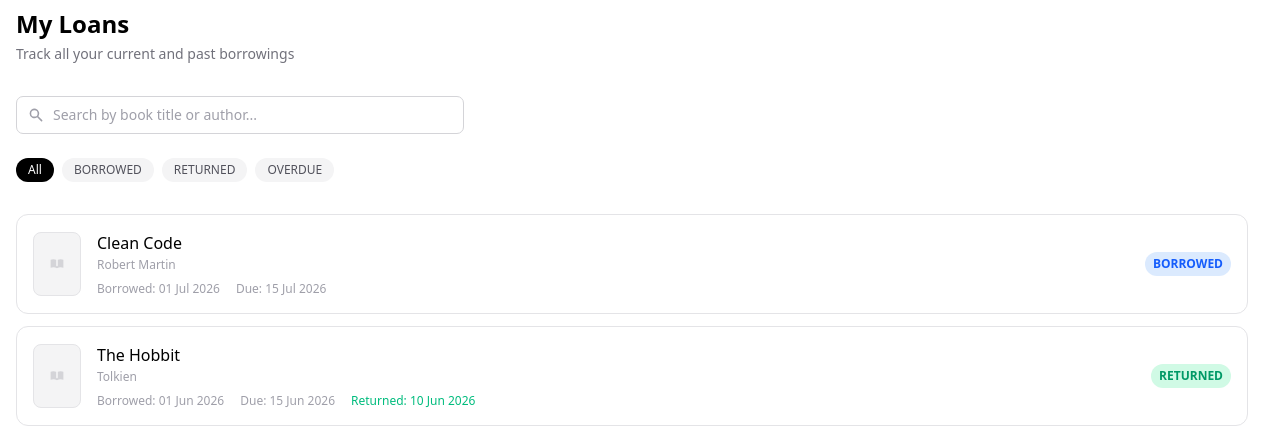
Test case: LoansClient component › should filter loans by status
The image size is (1265, 443).
Click the button "RETURNED" at (205, 170), box [162,158,247,182]
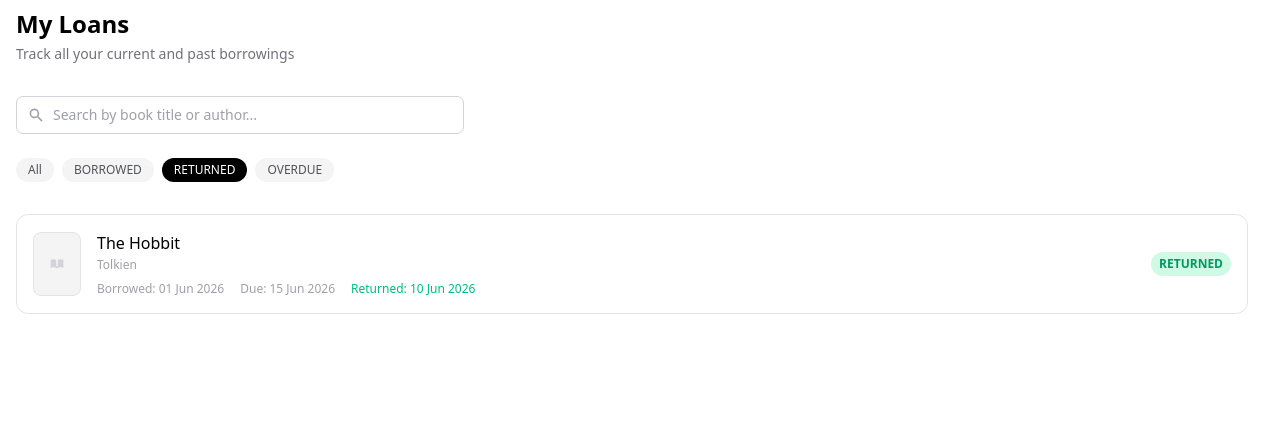
Expected: the text "The Hobbit" is shown, [97,232,180,254]
Now the text "Clean Code" is gone
